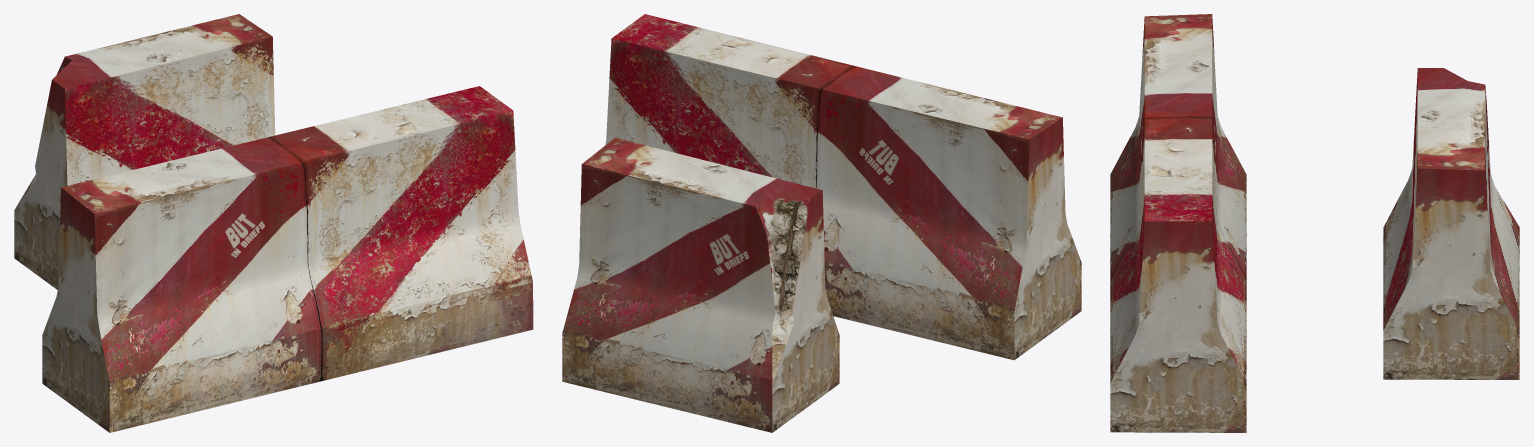
File: concrete_barrier.glb
3 renders of one model, left to right at view 1: azimuth 30°, elevation 25°; view 2: azimuth 150°, elevation 25°; view 3: azimuth 270°, elevation 25°, orthographic.
Parts seen in each view (by area): view 1: roadblock1_roadblock1_0, roadblock2_roadblock1_0; view 2: roadblock1_roadblock1_0, roadblock2_roadblock1_0; view 3: roadblock1_roadblock1_0, roadblock2_roadblock1_0.
Part boxes in pixels (box(x1,y1,x2,y2)): roadblock1_roadblock1_0: box(42, 86, 533, 432); roadblock2_roadblock1_0: box(14, 14, 275, 289); roadblock1_roadblock1_0: box(605, 14, 1081, 360); roadblock2_roadblock1_0: box(562, 137, 839, 432); roadblock1_roadblock1_0: box(1110, 14, 1246, 432); roadblock2_roadblock1_0: box(1383, 68, 1519, 379).
Bounding box in the file's own units: 182 × 85.28 × 150.
Materials: 2 (2 with a texture image).
